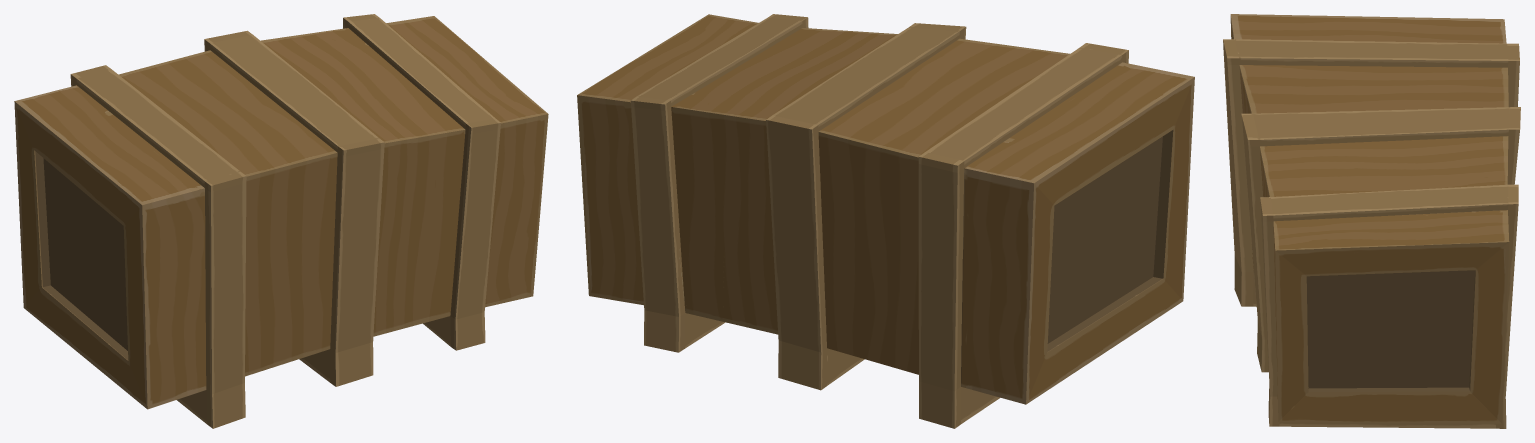
The model's file is CajaMadera2.fbx.
The picture shows the model from 3 angles, left to right: view 1: azimuth 30°, elevation 25°; view 2: azimuth 150°, elevation 25°; view 3: azimuth 270°, elevation 25°; orthographic projection. The views are drawn at different scales.
Parts seen in each view (by area): view 1: Caja_madera_01PTRSZ; view 2: Caja_madera_01PTRSZ; view 3: Caja_madera_01PTRSZ.
Part boxes in pixels (x1,y1,x2,y2): Caja_madera_01PTRSZ: (14,14,548,428); Caja_madera_01PTRSZ: (577,14,1194,428); Caja_madera_01PTRSZ: (1223,14,1520,428).
Bounding box in the file's own units: 2.29 × 1.27 × 1.38.
